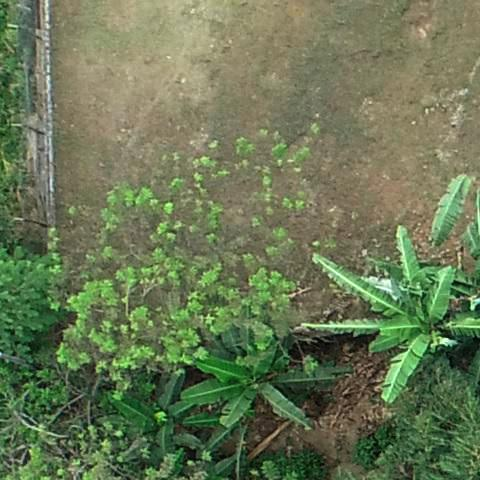Banana-plant: (312, 234, 480, 418), (178, 336, 336, 438), (103, 370, 210, 464)
